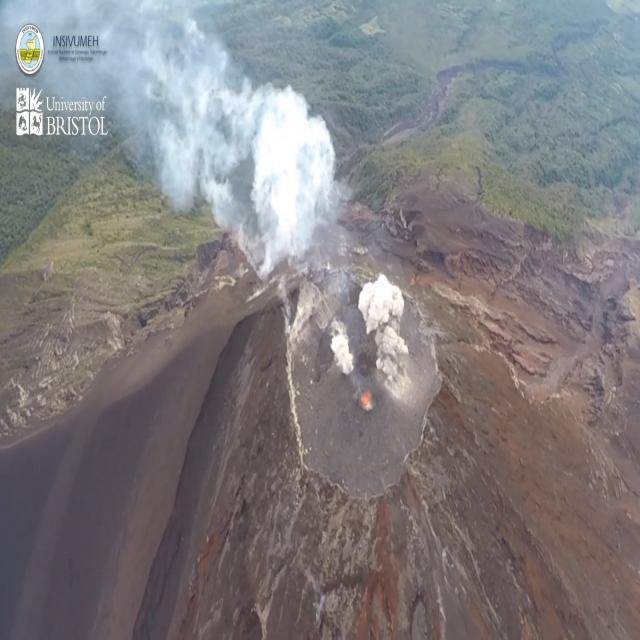Plume: (70, 0, 336, 270)
Summit: (236, 260, 484, 527)
